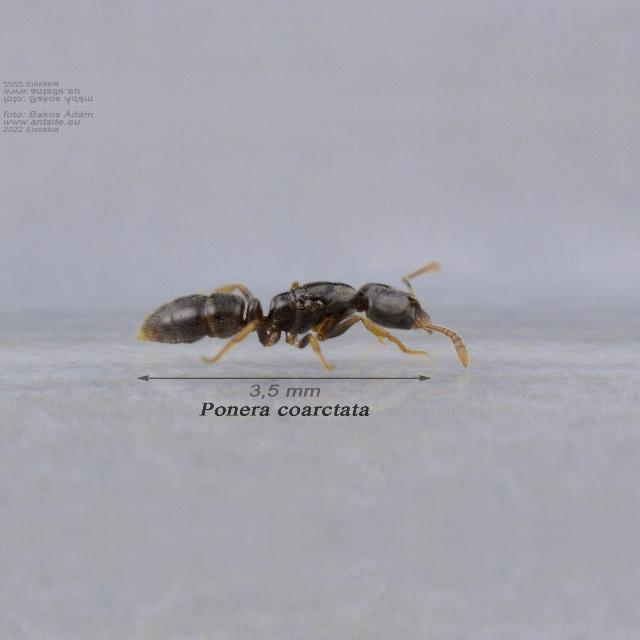Ponera: (100, 254, 468, 378)
